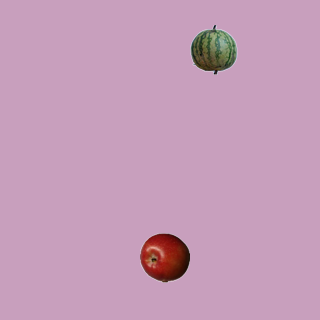Apple Braeburn: (139, 232, 189, 282)
Watermelon: (188, 24, 238, 74)
